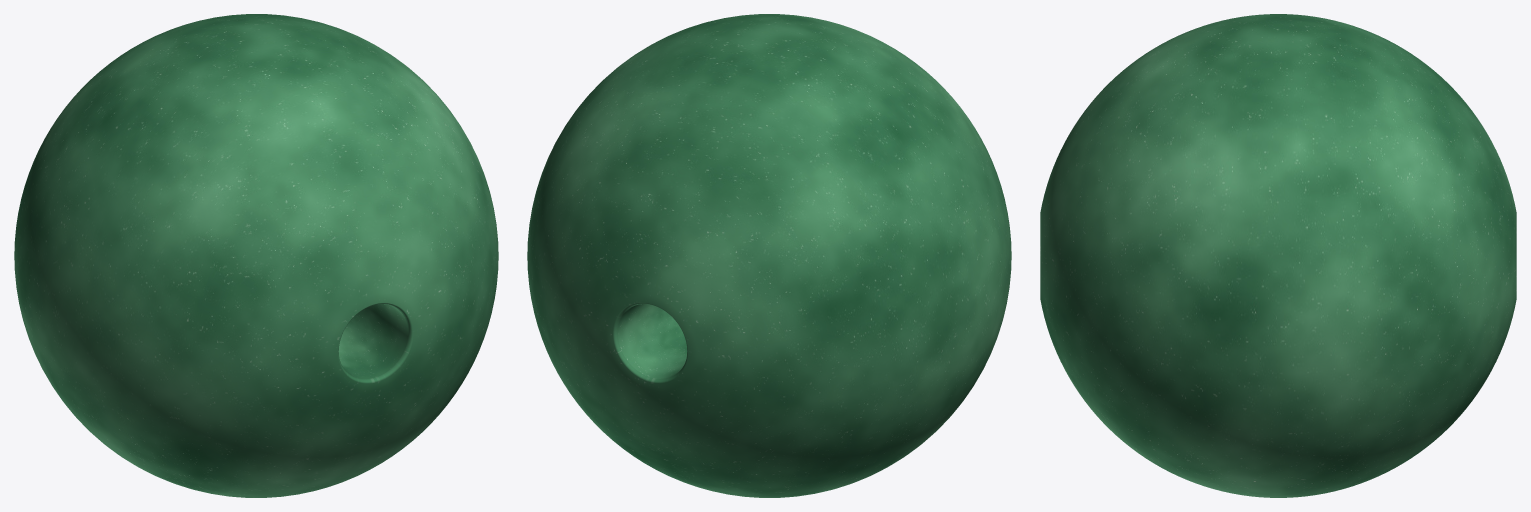
Rendered from green-aventurine-6mm.glb.
The picture shows the model from 3 angles, left to right: view 1: azimuth 30°, elevation 25°; view 2: azimuth 150°, elevation 25°; view 3: azimuth 270°, elevation 25°; orthographic projection.
Visible parts, largest first — view 1: green-aventurine.001; view 2: green-aventurine.001; view 3: green-aventurine.001.
Part boxes in pixels (x1,y1,x2,y2): green-aventurine.001: [14, 14, 498, 497]; green-aventurine.001: [527, 14, 1011, 497]; green-aventurine.001: [1040, 14, 1516, 497].
Size of the model in its own units: 0.006 by 0.006 by 0.0059.
1 material, 1 textured.
